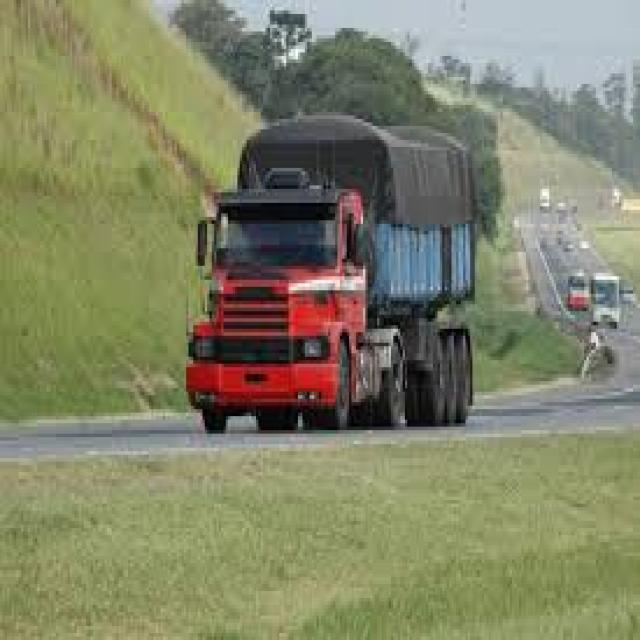covered: (184, 105, 477, 430)
